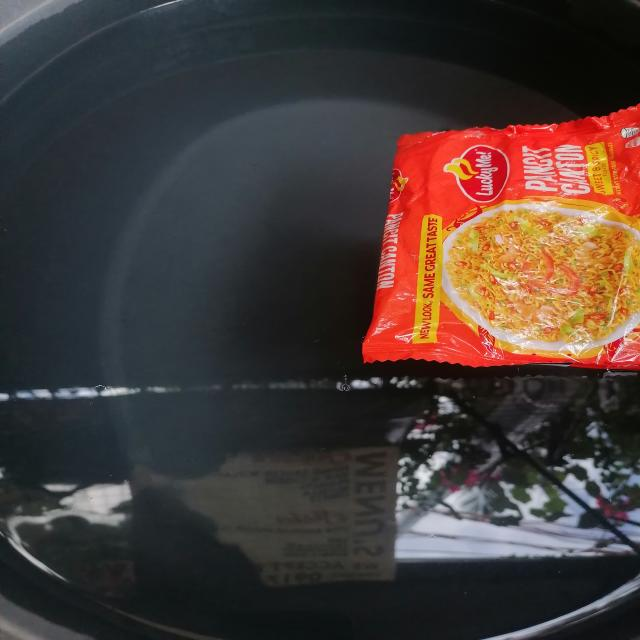Plastic Wrapper: (333, 90, 640, 386)
